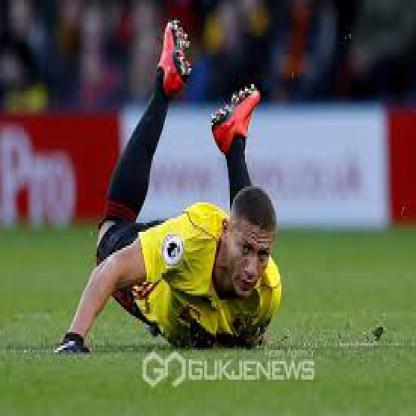Fall_Down: (54, 20, 283, 357)
